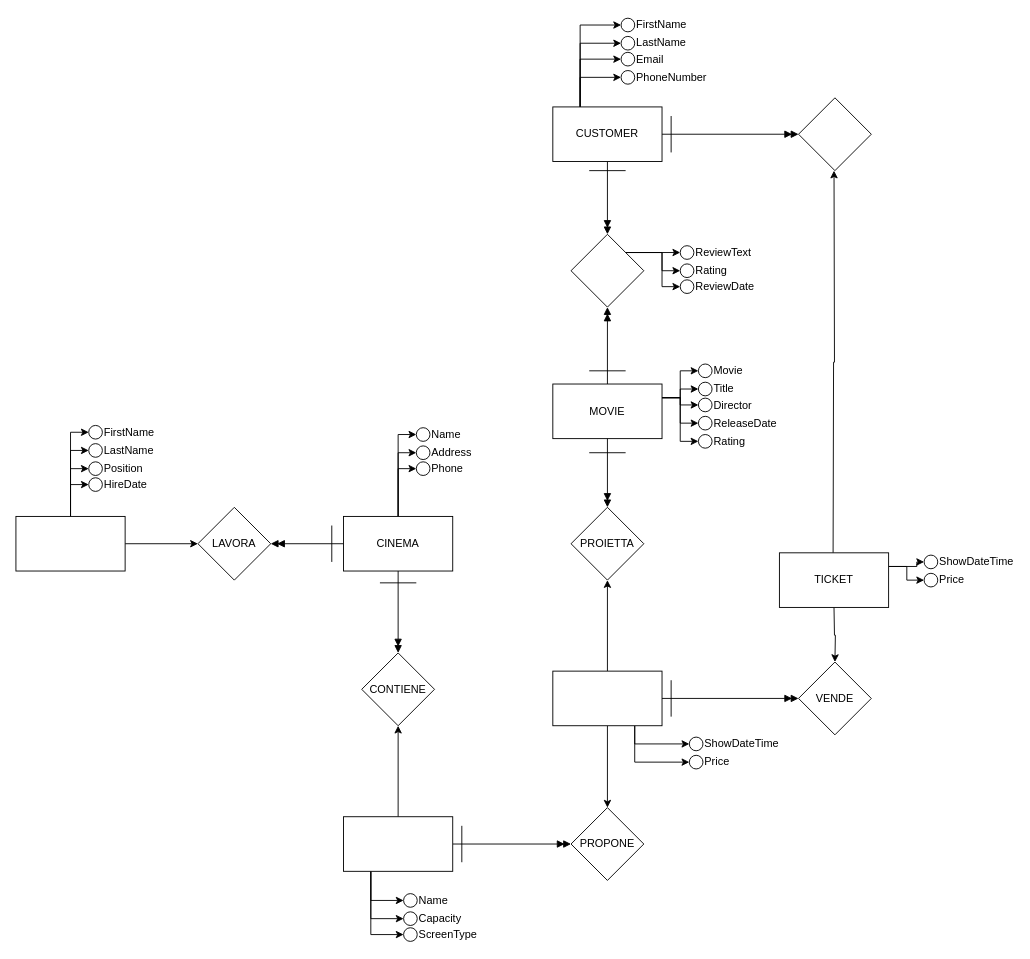
Image size: 1030x959. Some labels were removed from this diagram. The centre of each missing label's shape, as x and y in pixels:
"ACQUISTA" belongs at (834,134).
"EMPLOYEE" belongs at (70,543).
"PROGRAMMAZIONE" belongs at (607,698).
"REVIEW" belongs at (607,270).
"THEATER" belongs at (398,843).
